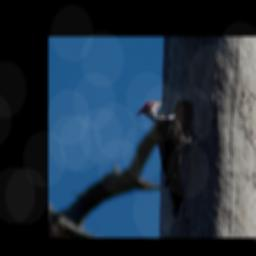Woodpecker: (136, 96, 204, 219)
